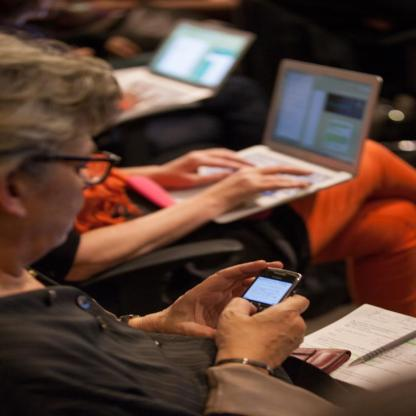board: (164, 57, 382, 223), (120, 13, 266, 107)
